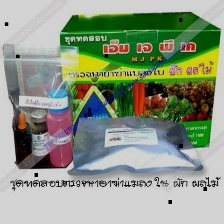book: (53, 8, 223, 150)
insecticide: (66, 114, 209, 176), (44, 85, 73, 167), (26, 108, 49, 168), (13, 113, 31, 169)
